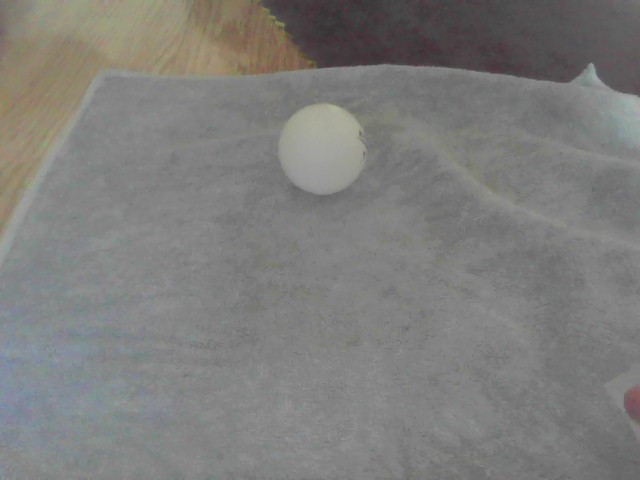ball: (280, 99, 367, 197)
